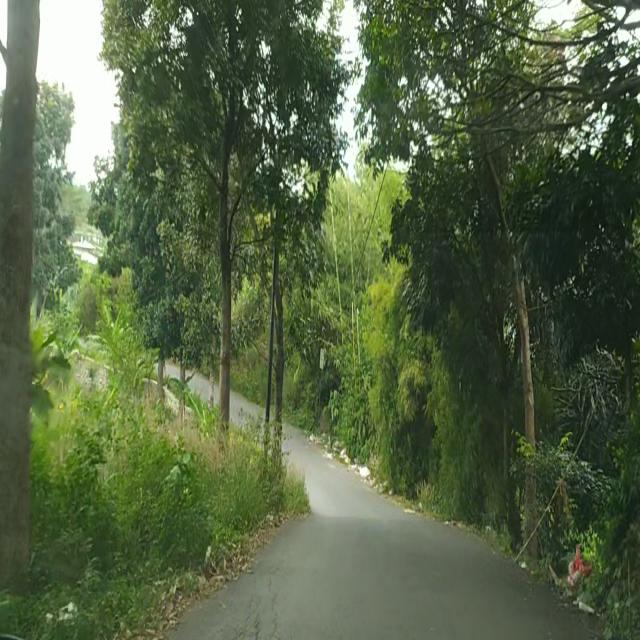Drain Hole: (230, 582, 280, 640)
